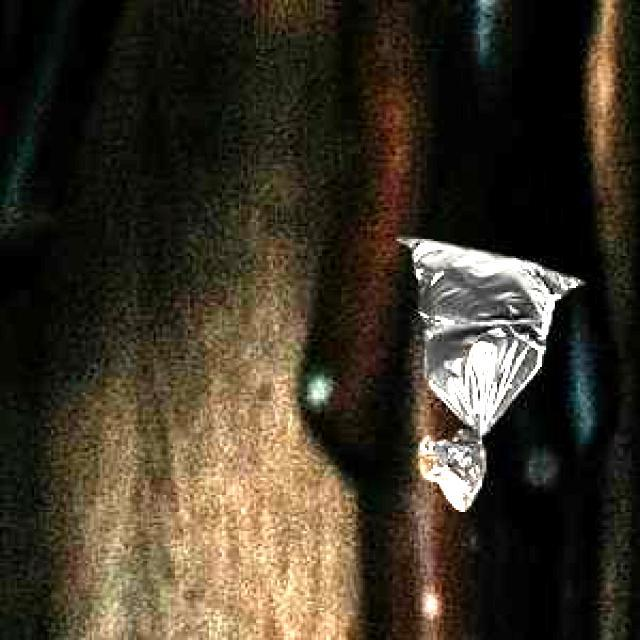Garbage_Bag: (397, 236, 580, 507)
